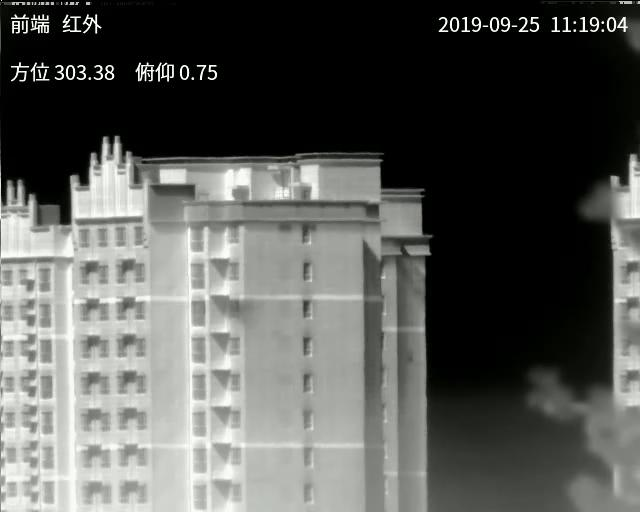uav: (221, 296, 262, 330)
